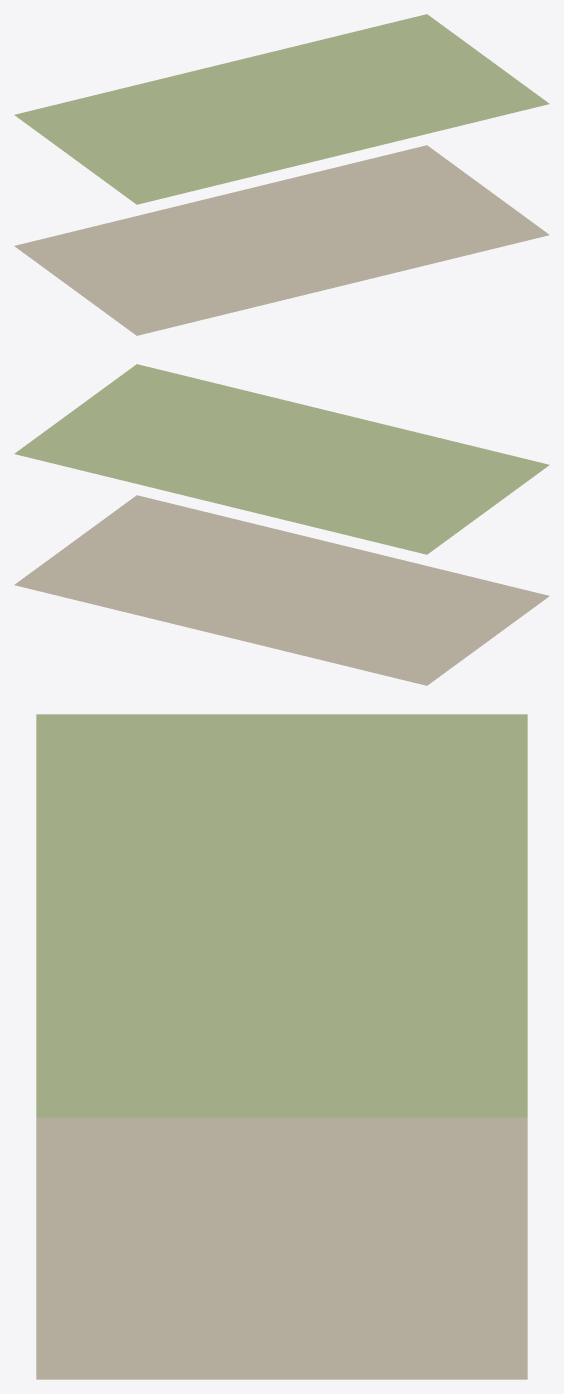
3 renders of one model, top to bottom at view 1: azimuth 30°, elevation 25°; view 2: azimuth 150°, elevation 25°; view 3: azimuth 270°, elevation 25°, orthographic. The views are drawn at different scales.
Visible parts, largest first — view 1: s_12_7__soil, s_12_7__grass; view 2: s_12_7__soil, s_12_7__grass; view 3: s_12_7__grass, s_12_7__soil.
Part boxes in pixels (x1,y1,x2,y2): s_12_7__soil: (14,145,549,335); s_12_7__grass: (14,14,549,204); s_12_7__soil: (14,495,549,685); s_12_7__grass: (14,364,549,554); s_12_7__grass: (36,714,527,1117); s_12_7__soil: (36,1117,527,1379).
Size of the model in its own units: 66 by 20.01 by 34.
